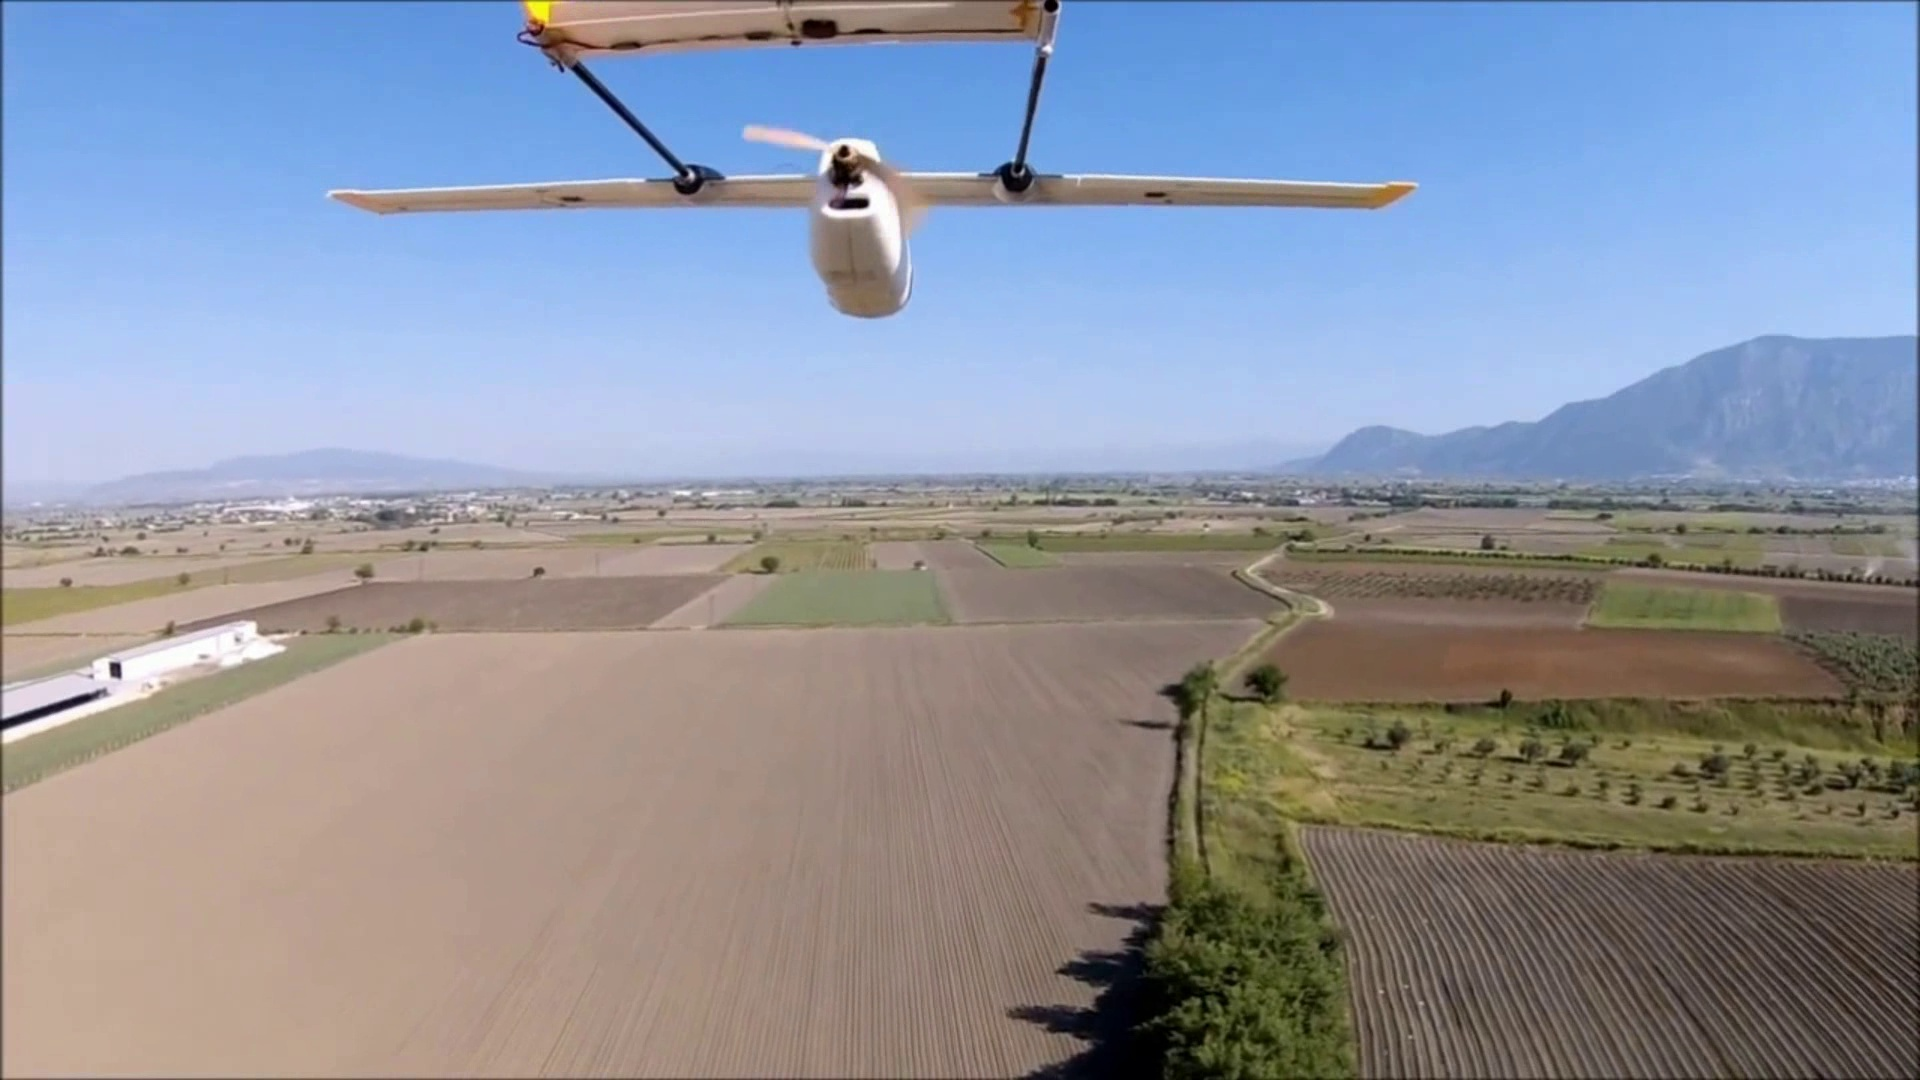airplane: (328, 3, 1415, 319)
